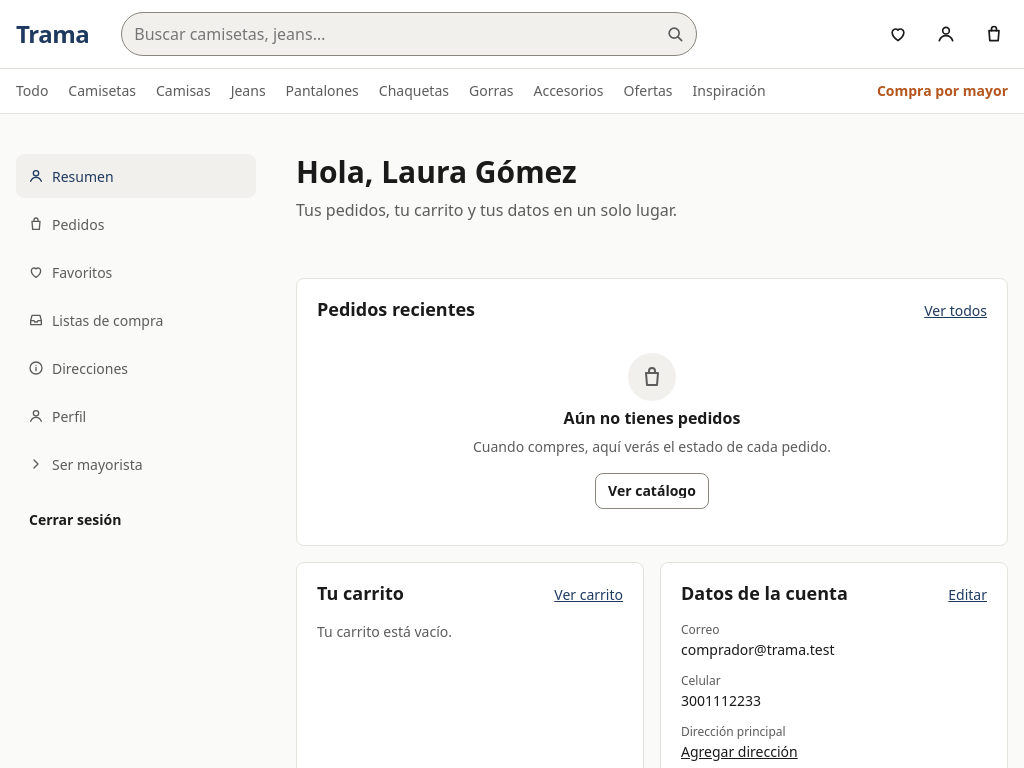
Test case: Autenticación › cerrar sesión lleva al inicio
Click the button "Cerrar sesión" at (75, 520), box [16,502,134,538]
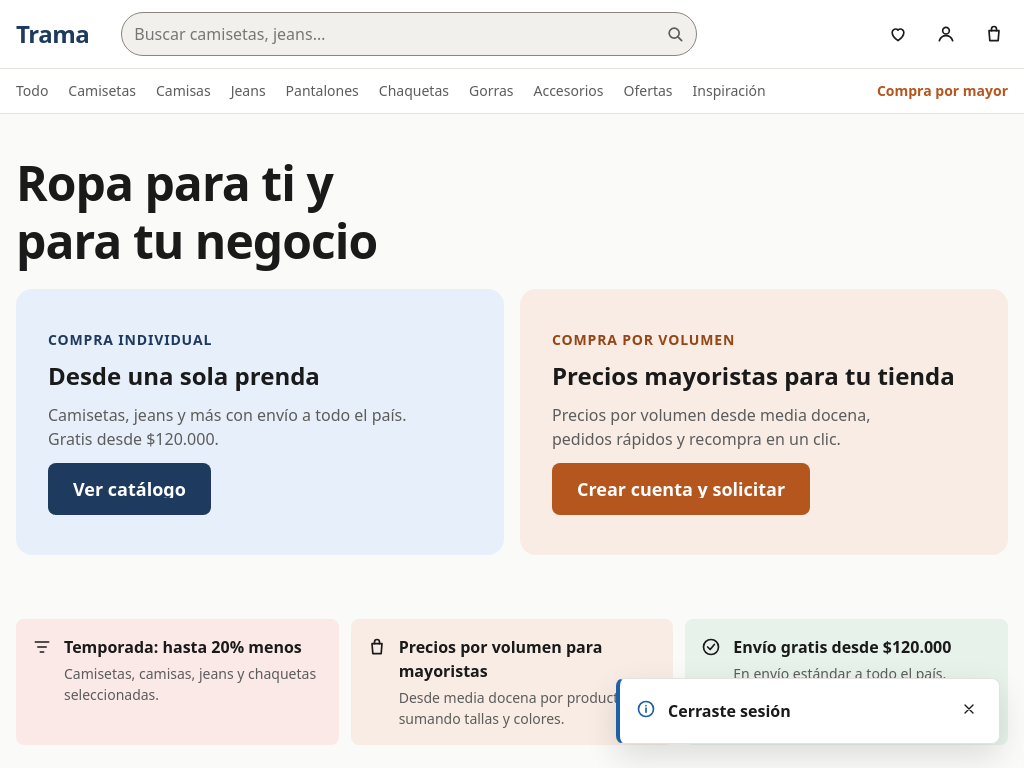
Now the text "Cerraste sesión" is shown, box [668,700,791,722]
Now the heading "Ropa para ti y para tu negocio" is shown, box [16,150,377,273]
